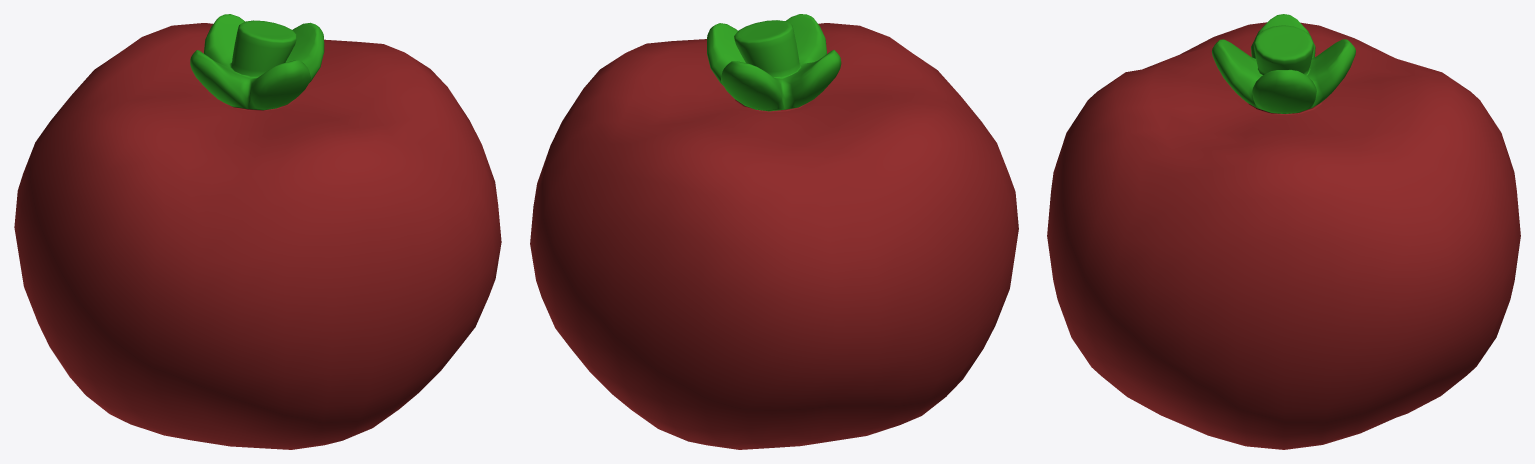
File: Tomat_Ing.fbx
3 views of the same model, side by side, from view 1: azimuth 30°, elevation 25°; view 2: azimuth 150°, elevation 25°; view 3: azimuth 270°, elevation 25° (orthographic).
Parts seen in each view (by area): view 1: Tomat1; view 2: Tomat1; view 3: Tomat1.
Boxes of the visible parts, box(x1,y1,x2,y2) form: Tomat1: box(14, 14, 501, 449); Tomat1: box(530, 14, 1018, 449); Tomat1: box(1047, 14, 1520, 449).
Size of the model in its own units: 63.12 by 55.24 by 63.21.
